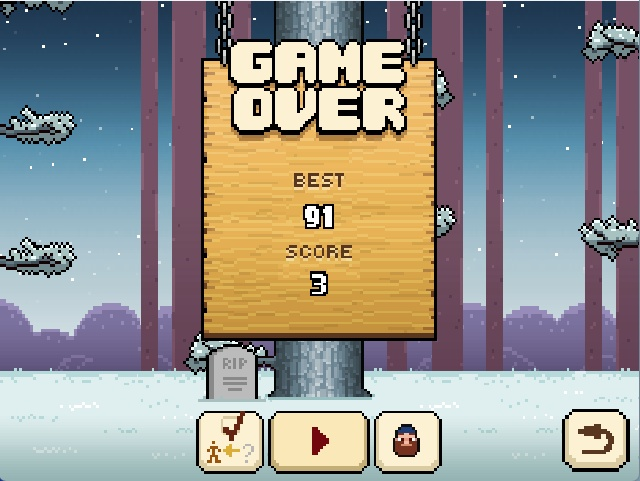game_over: (226, 37, 412, 143)
